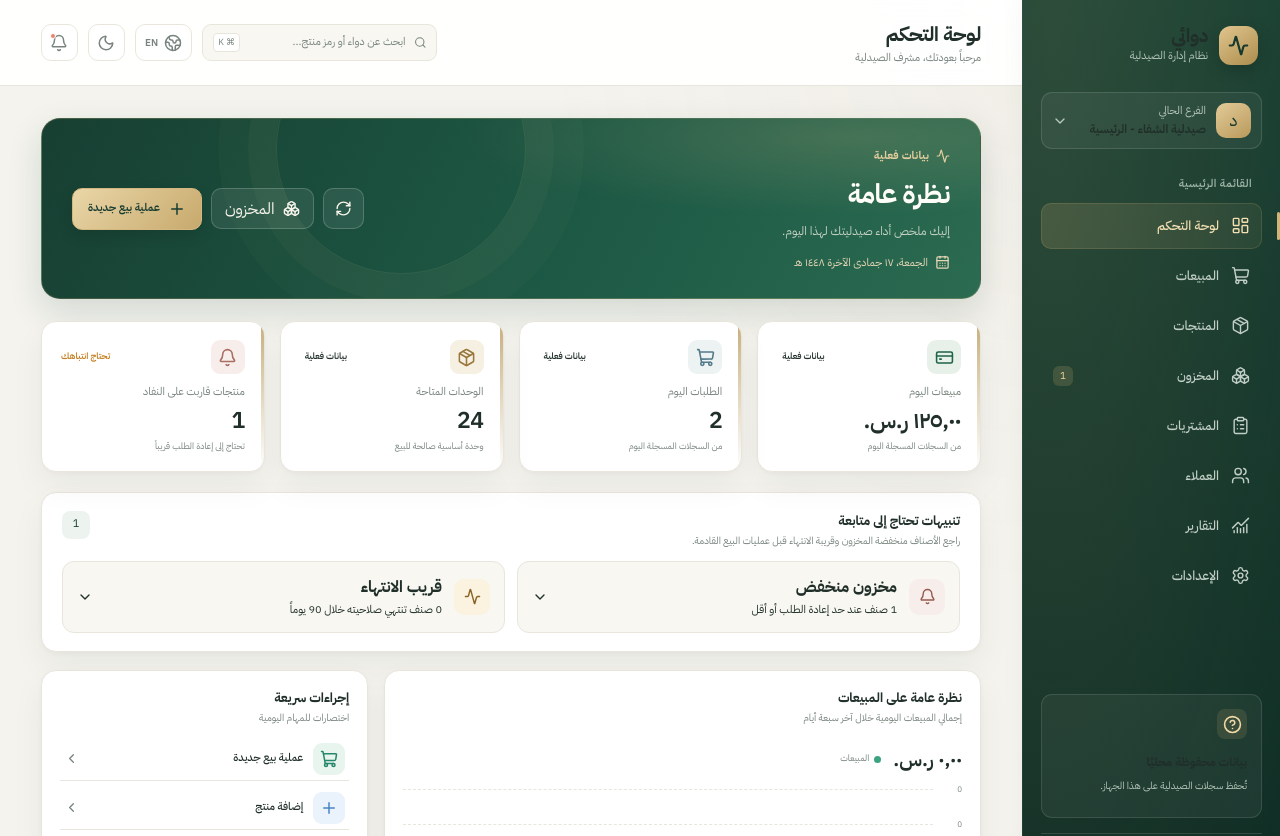
main application shell › highlights products at or below their reorder threshold
The width and height of the screenshot is (1280, 836).
Step 1. Click the button "المخزون 1" → (1152, 376), box x1=1041 y1=352 x2=1262 y2=398
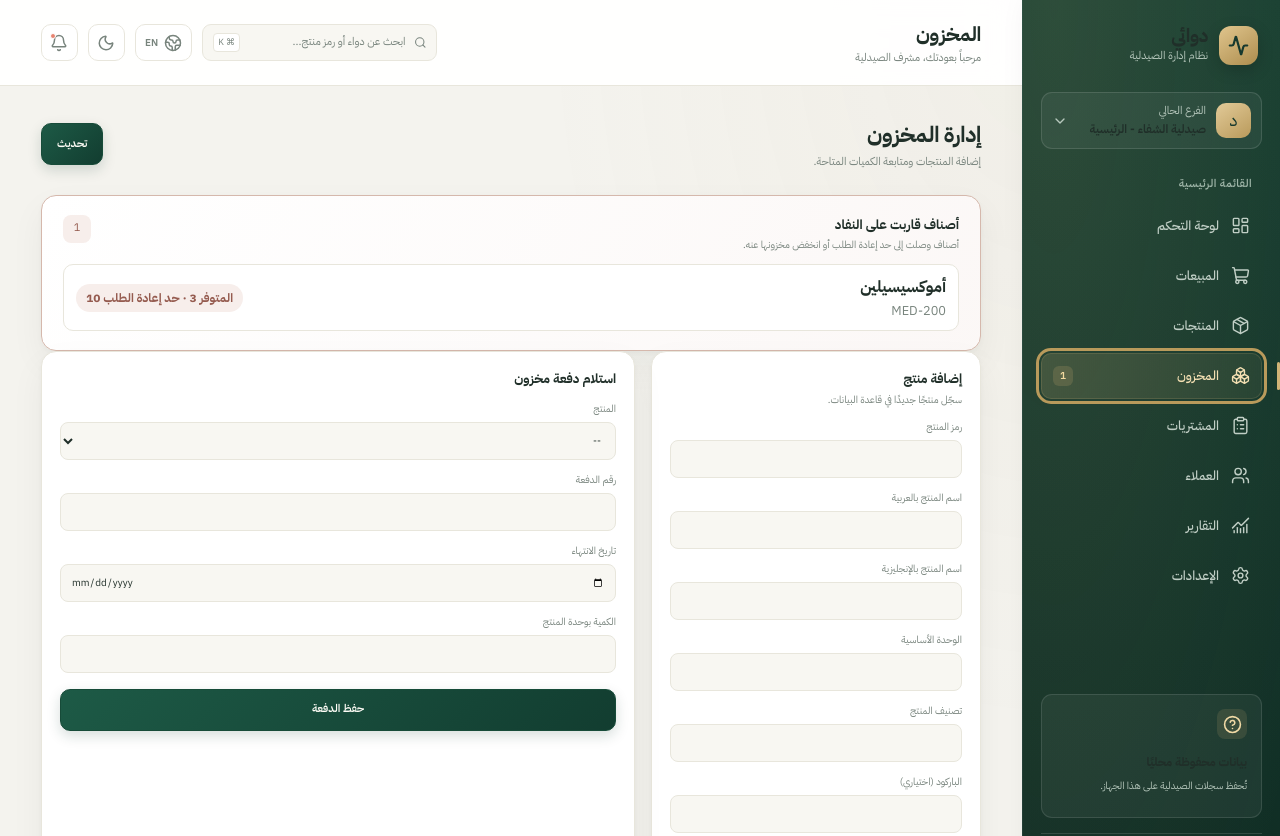
Check: the heading "أصناف قاربت على النفاد" is shown, box x1=835 y1=214 x2=959 y2=234
Check: the text "المتوفر 3 · حد إعادة الطلب 10" is shown, box x1=76 y1=284 x2=243 y2=312
